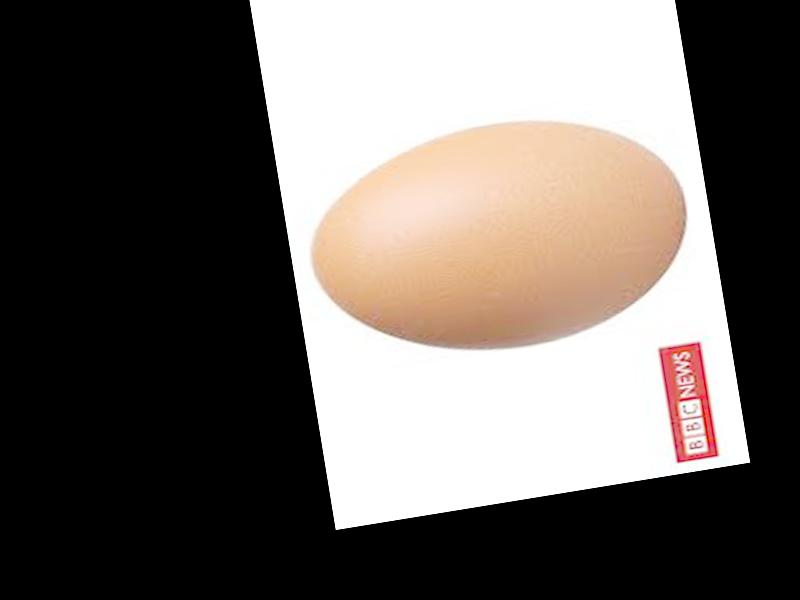Eggs: (297, 95, 701, 376)
